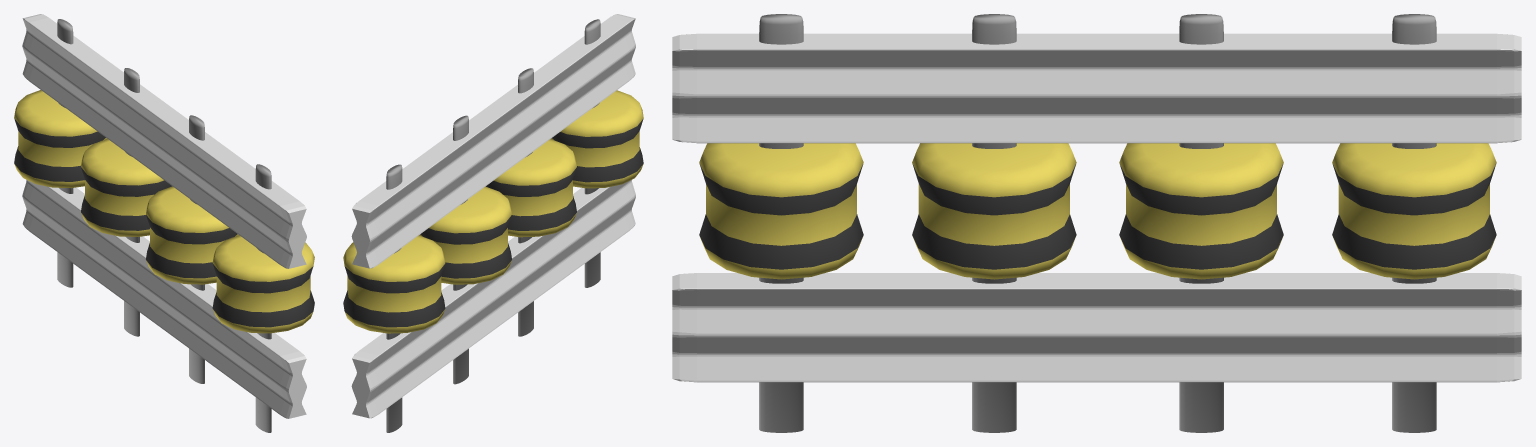
File: Barrier.fbx
3 renders of one model, left to right at view 1: azimuth 30°, elevation 25°; view 2: azimuth 150°, elevation 25°; view 3: azimuth 270°, elevation 25°, orthographic. The views are drawn at different scales.
Visible parts, largest first — view 1: Cube; view 2: Cube; view 3: Cube.
Part boxes in pixels (x1,y1,x2,y2): Cube: [14, 14, 314, 432]; Cube: [343, 14, 643, 432]; Cube: [672, 14, 1521, 432].
Bounding box in the file's own units: 196 × 543 × 1013.
